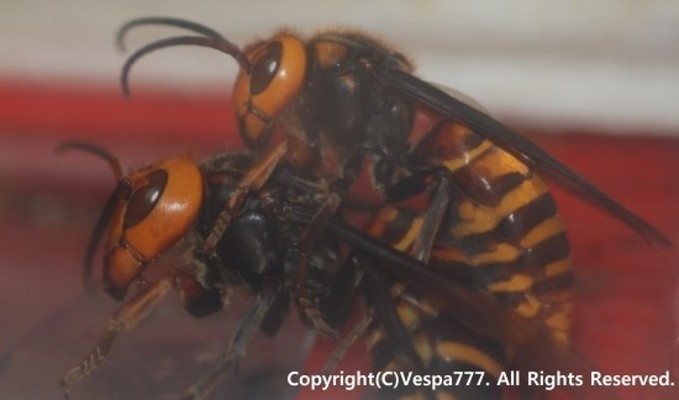asian_giant_hornet: (117, 5, 577, 347), (97, 150, 509, 400)
